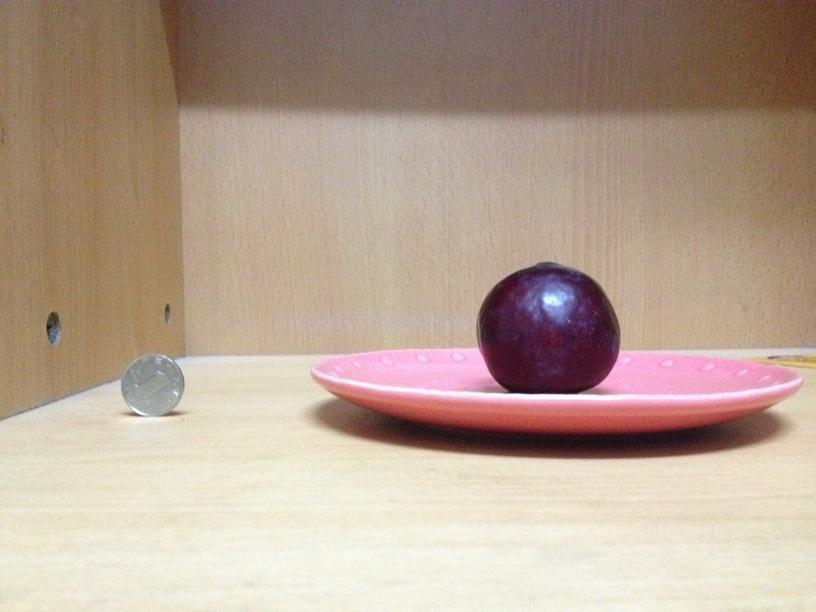coin: (120, 355, 184, 414)
plum: (469, 256, 622, 392)
